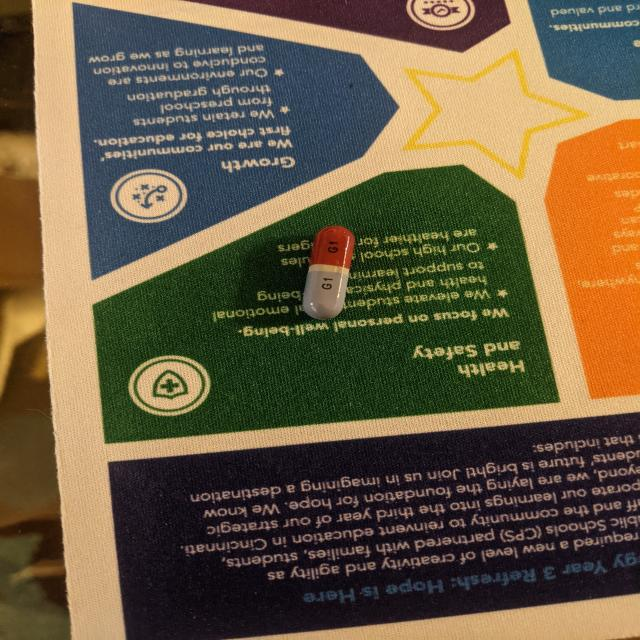non-organic waste: (300, 224, 357, 322)
